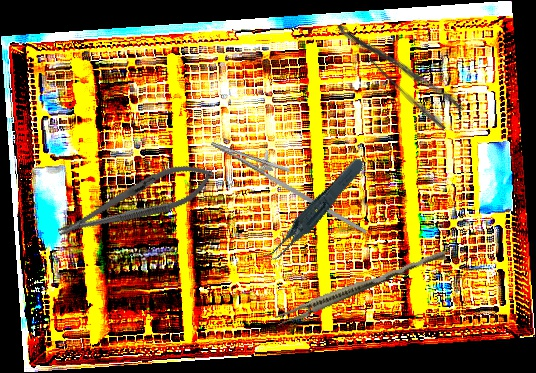Dressing Forceps: (334, 4, 466, 133)
Needle Holder: (202, 128, 381, 235), (50, 152, 221, 252)
Tissue Forceps: (242, 155, 382, 267), (274, 244, 447, 330)
